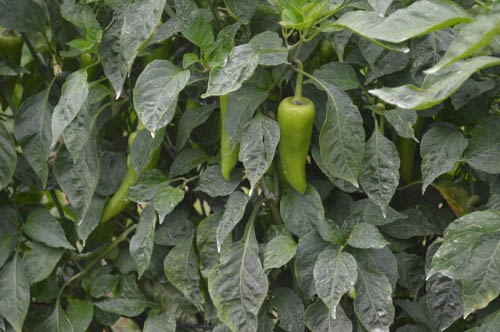ChiliPepper: (101, 130, 169, 225), (272, 100, 313, 195), (217, 82, 245, 184)
